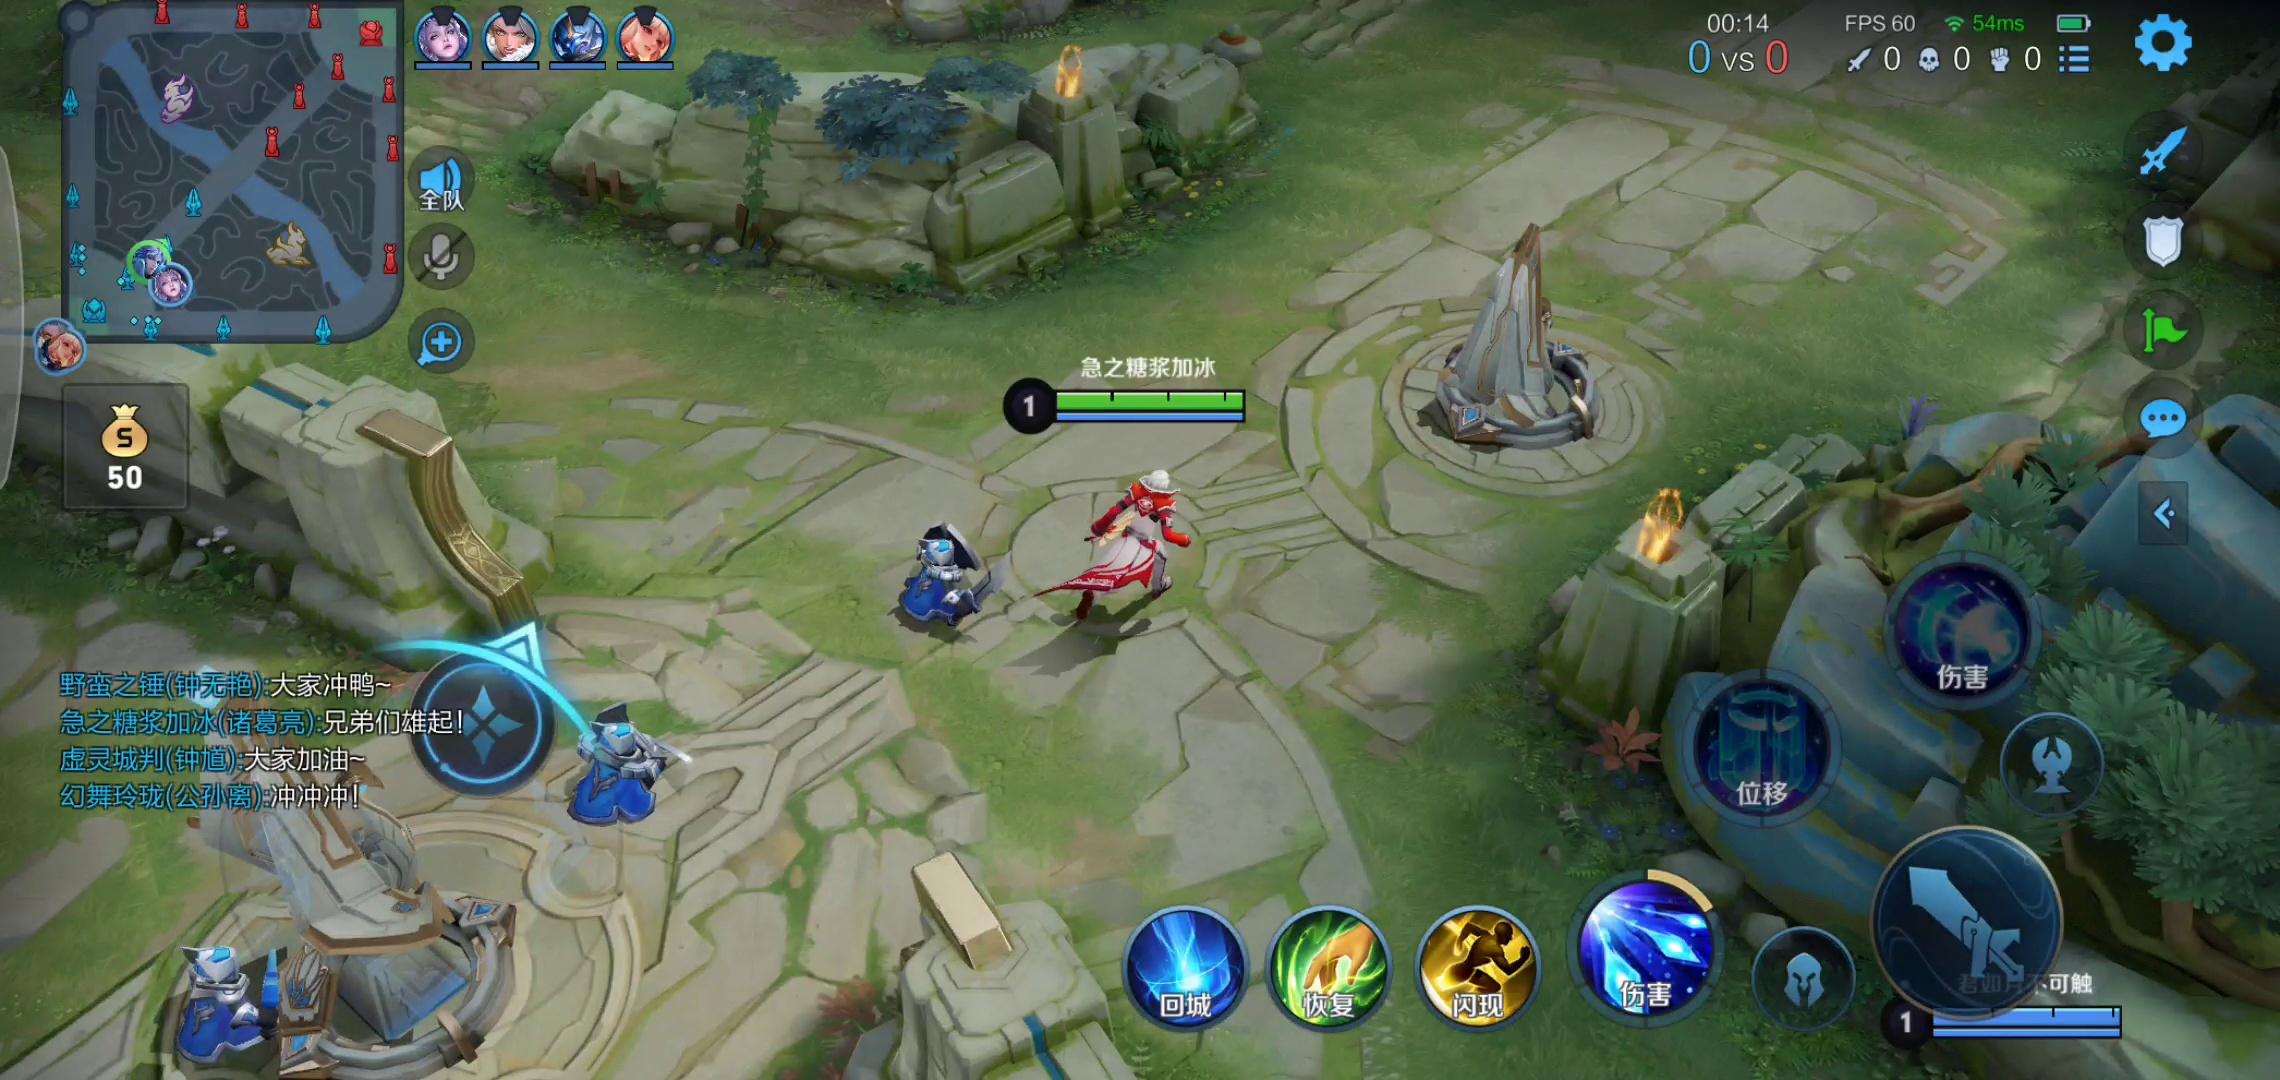hero: (1064, 458, 1203, 640)
soldier: (553, 692, 694, 831), (153, 936, 289, 1071), (883, 509, 1011, 642)
tower: (144, 677, 539, 1055), (1400, 199, 1633, 454)
